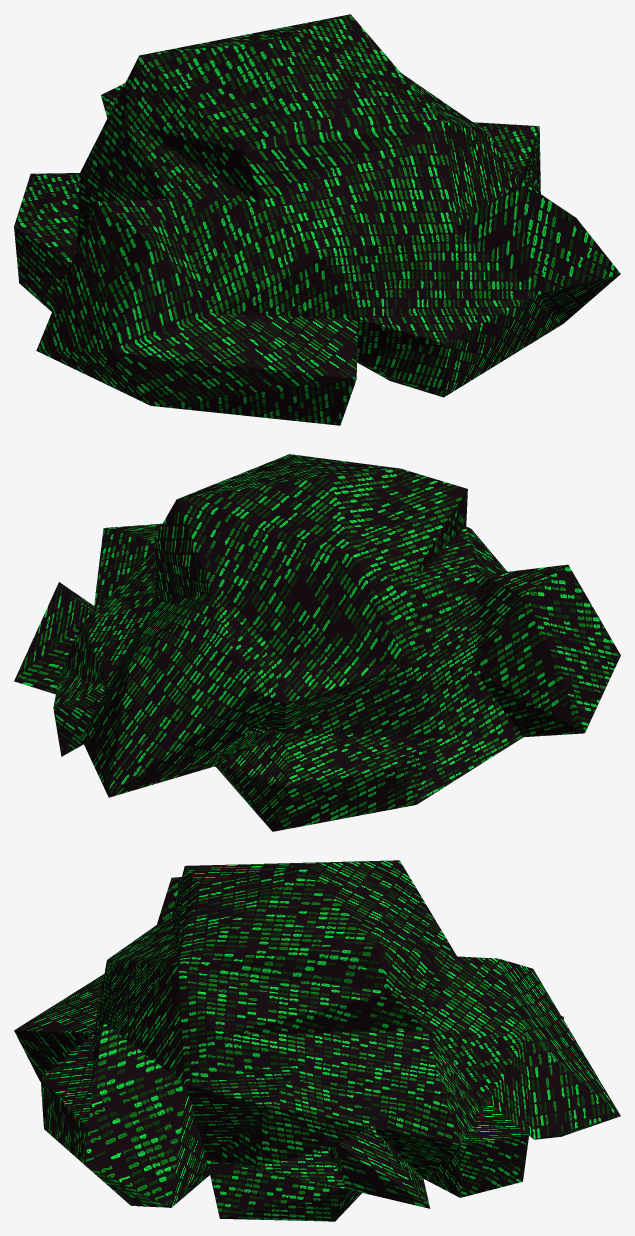
Rendered from Rock3_code.fbx.
3 views of the same model, one above another, from view 1: azimuth 30°, elevation 25°; view 2: azimuth 150°, elevation 25°; view 3: azimuth 270°, elevation 25° (orthographic). The views are drawn at different scales.
Visible parts, largest first — view 1: Rock3_code; view 2: Rock3_code; view 3: Rock3_code.
Part boxes in pixels (<box>): Rock3_code: <box>14,14,620,425</box>; Rock3_code: <box>14,454,620,831</box>; Rock3_code: <box>14,860,620,1221</box>.
Bounding box in the file's own units: 2.35 × 1.19 × 2.54.
1 material, 1 textured.
